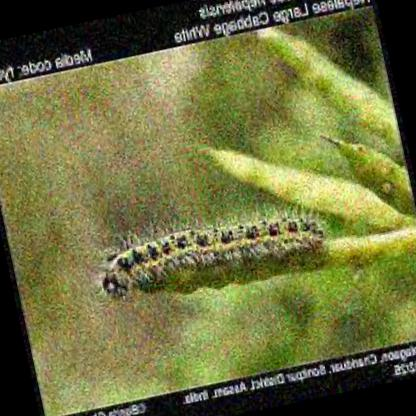pieris: (101, 211, 331, 296)
